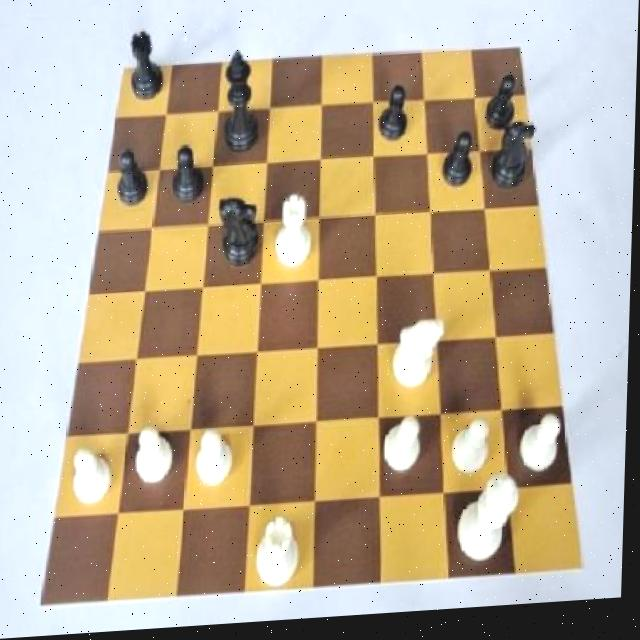black-bishop: (221, 54, 262, 163)
black-king: (485, 122, 543, 205), (218, 191, 260, 274)
black-knight: (112, 142, 155, 217), (480, 76, 524, 146), (168, 144, 210, 211), (440, 133, 478, 203), (374, 89, 417, 150)
black-queen: (129, 25, 165, 111)
white-bishop: (456, 477, 522, 576)
white-king: (387, 319, 450, 401)
white-knight: (518, 414, 574, 489), (195, 430, 245, 503), (451, 418, 499, 494), (134, 424, 184, 494), (67, 449, 120, 511), (384, 418, 429, 483)
white-queen: (256, 514, 309, 593), (275, 197, 318, 281)
